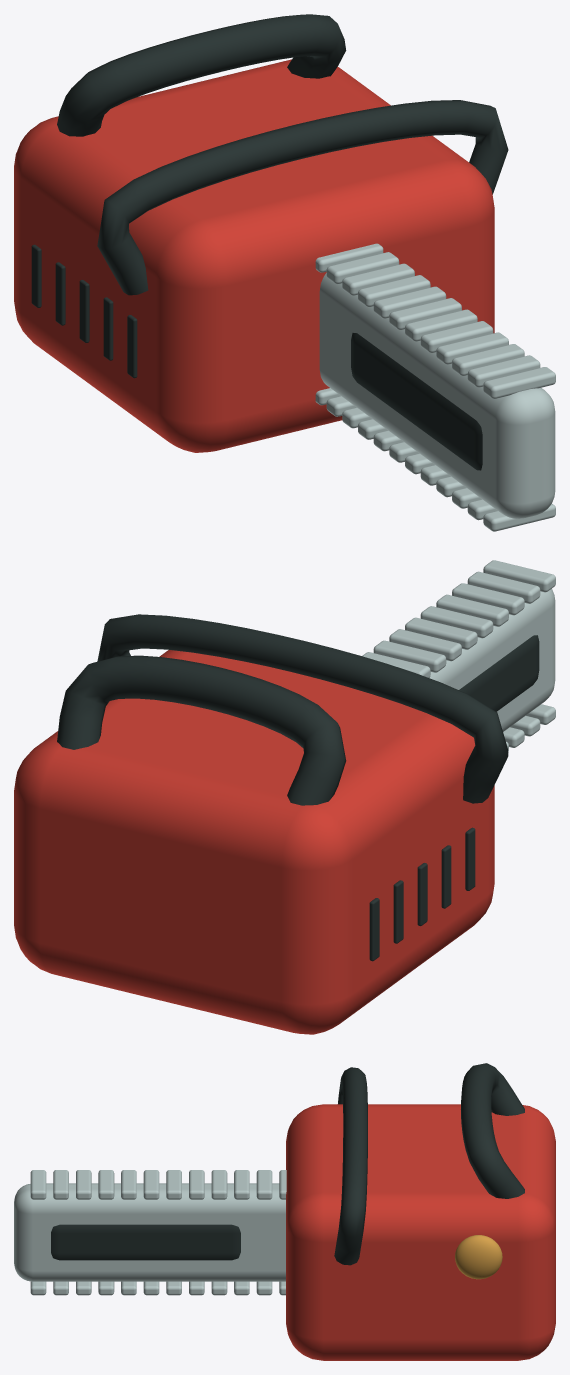
The model's file is chainsaw.glb.
3 renders of one model, top to bottom at view 1: azimuth 30°, elevation 25°; view 2: azimuth 150°, elevation 25°; view 3: azimuth 270°, elevation 25°, orthographic. The views are drawn at different scales.
Visible parts, largest first — view 1: motor_shell, dark, object 4, mechanism_chain; view 2: motor_shell, dark, mechanism_chain, object 4; view 3: motor_shell, dark, object 4, mechanism_chain, brass.
Part boxes in pixels (left/top/right/bottom): motor_shell: left=14, top=59, right=494, bottom=452; dark: left=31, top=14, right=508, bottom=470; object 4: left=319, top=273, right=555, bottom=518; mechanism_chain: left=315, top=243, right=555, bottom=531; motor_shell: left=14, top=650, right=494, bottom=1034; dark: left=57, top=614, right=539, bottom=961; mechanism_chain: left=362, top=560, right=555, bottom=751; object 4: left=429, top=588, right=555, bottom=734; motor_shell: left=286, top=1104, right=555, bottom=1360; dark: left=51, top=1063, right=524, bottom=1265; object 4: left=14, top=1186, right=285, bottom=1285; mechanism_chain: left=22, top=1170, right=286, bottom=1295; brass: left=455, top=1235, right=502, bottom=1279.
Size of the model in its own units: 0.5383 by 0.3928 by 0.863.
